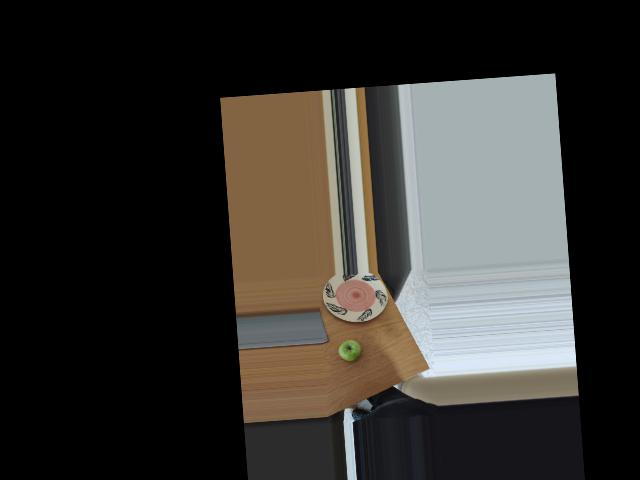apple: (337, 338, 365, 366)
